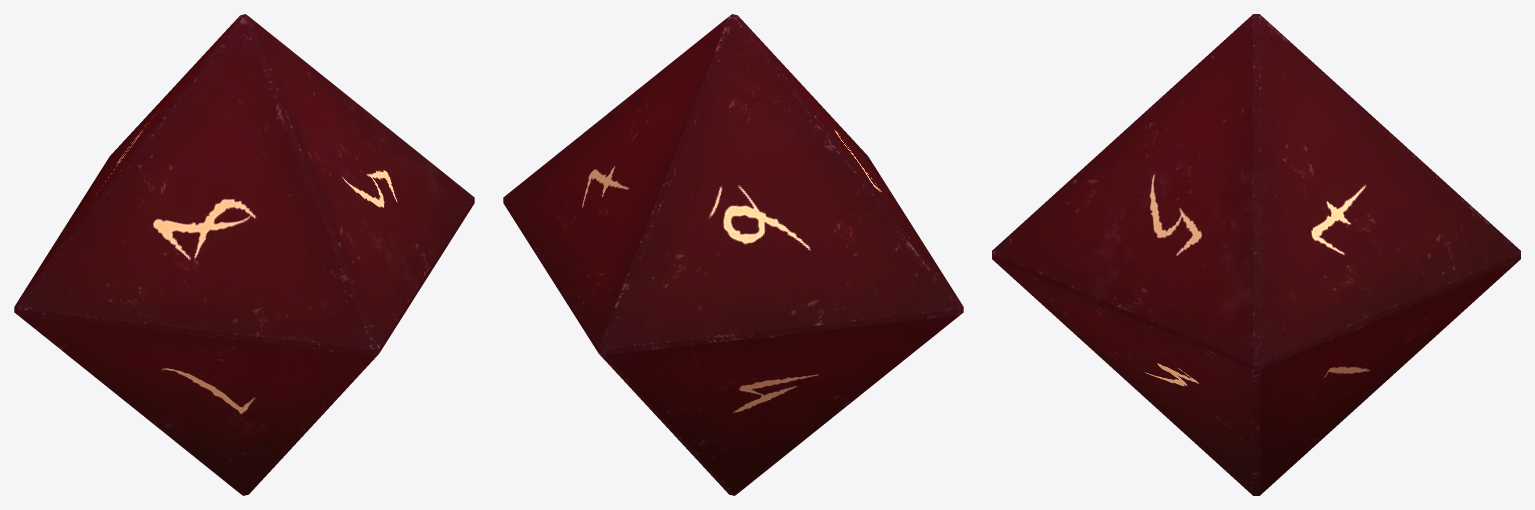
The model's file is DragonGem_d8.gltf.
The picture shows the model from 3 angles, left to right: view 1: azimuth 30°, elevation 25°; view 2: azimuth 150°, elevation 25°; view 3: azimuth 270°, elevation 25°; orthographic projection.
Visible parts, largest first — view 1: dragongem_d8; view 2: dragongem_d8; view 3: dragongem_d8.
Part boxes in pixels (x1,y1,x2,y2): dragongem_d8: (14, 14, 474, 495); dragongem_d8: (503, 14, 963, 495); dragongem_d8: (992, 14, 1520, 495).
Size of the model in its own units: 196 by 196 by 196.
Materials: 1 (1 with a texture image).
